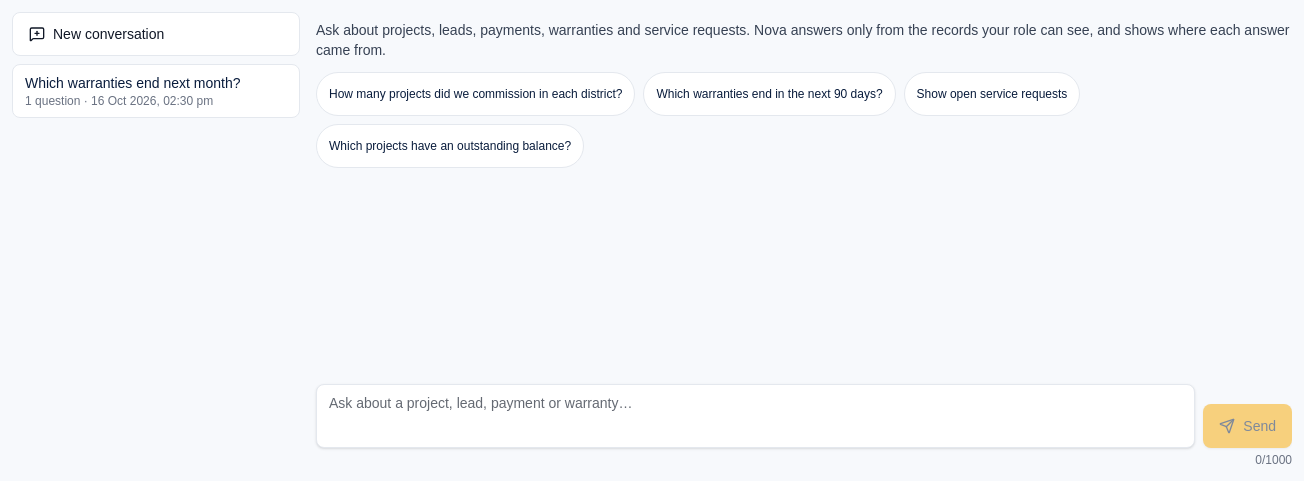
it: statuses › not_on_record is neutral and shows the searched filters open
Type "q" into the text box named "Your question for Nova" at [756, 416], box left=316, top=384, right=1195, bottom=448
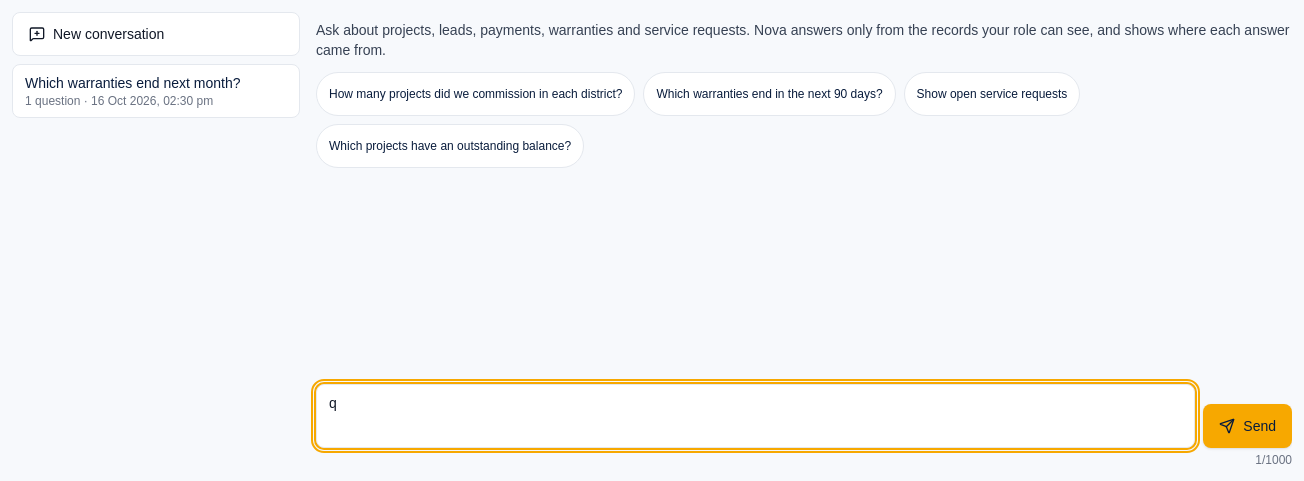
Click the button with aria-label "Send question" at [1248, 426], box left=1203, top=404, right=1292, bottom=448
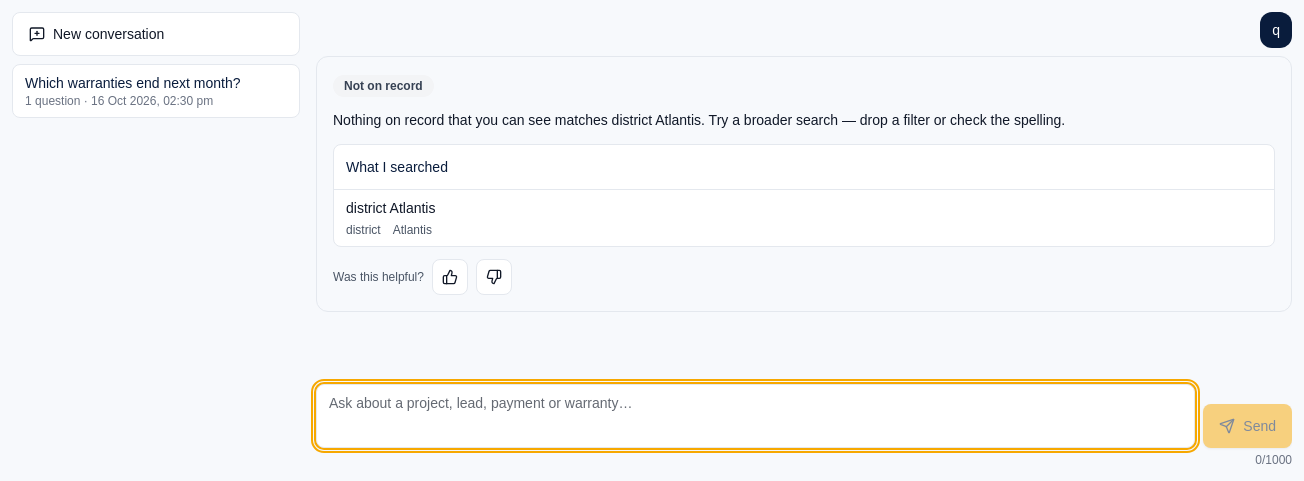
expect the text with test id "status-badge" reads "Not on record": met, box left=344, top=79, right=423, bottom=93
expect the text "Atlantis" is shown: met, box left=393, top=223, right=432, bottom=237
